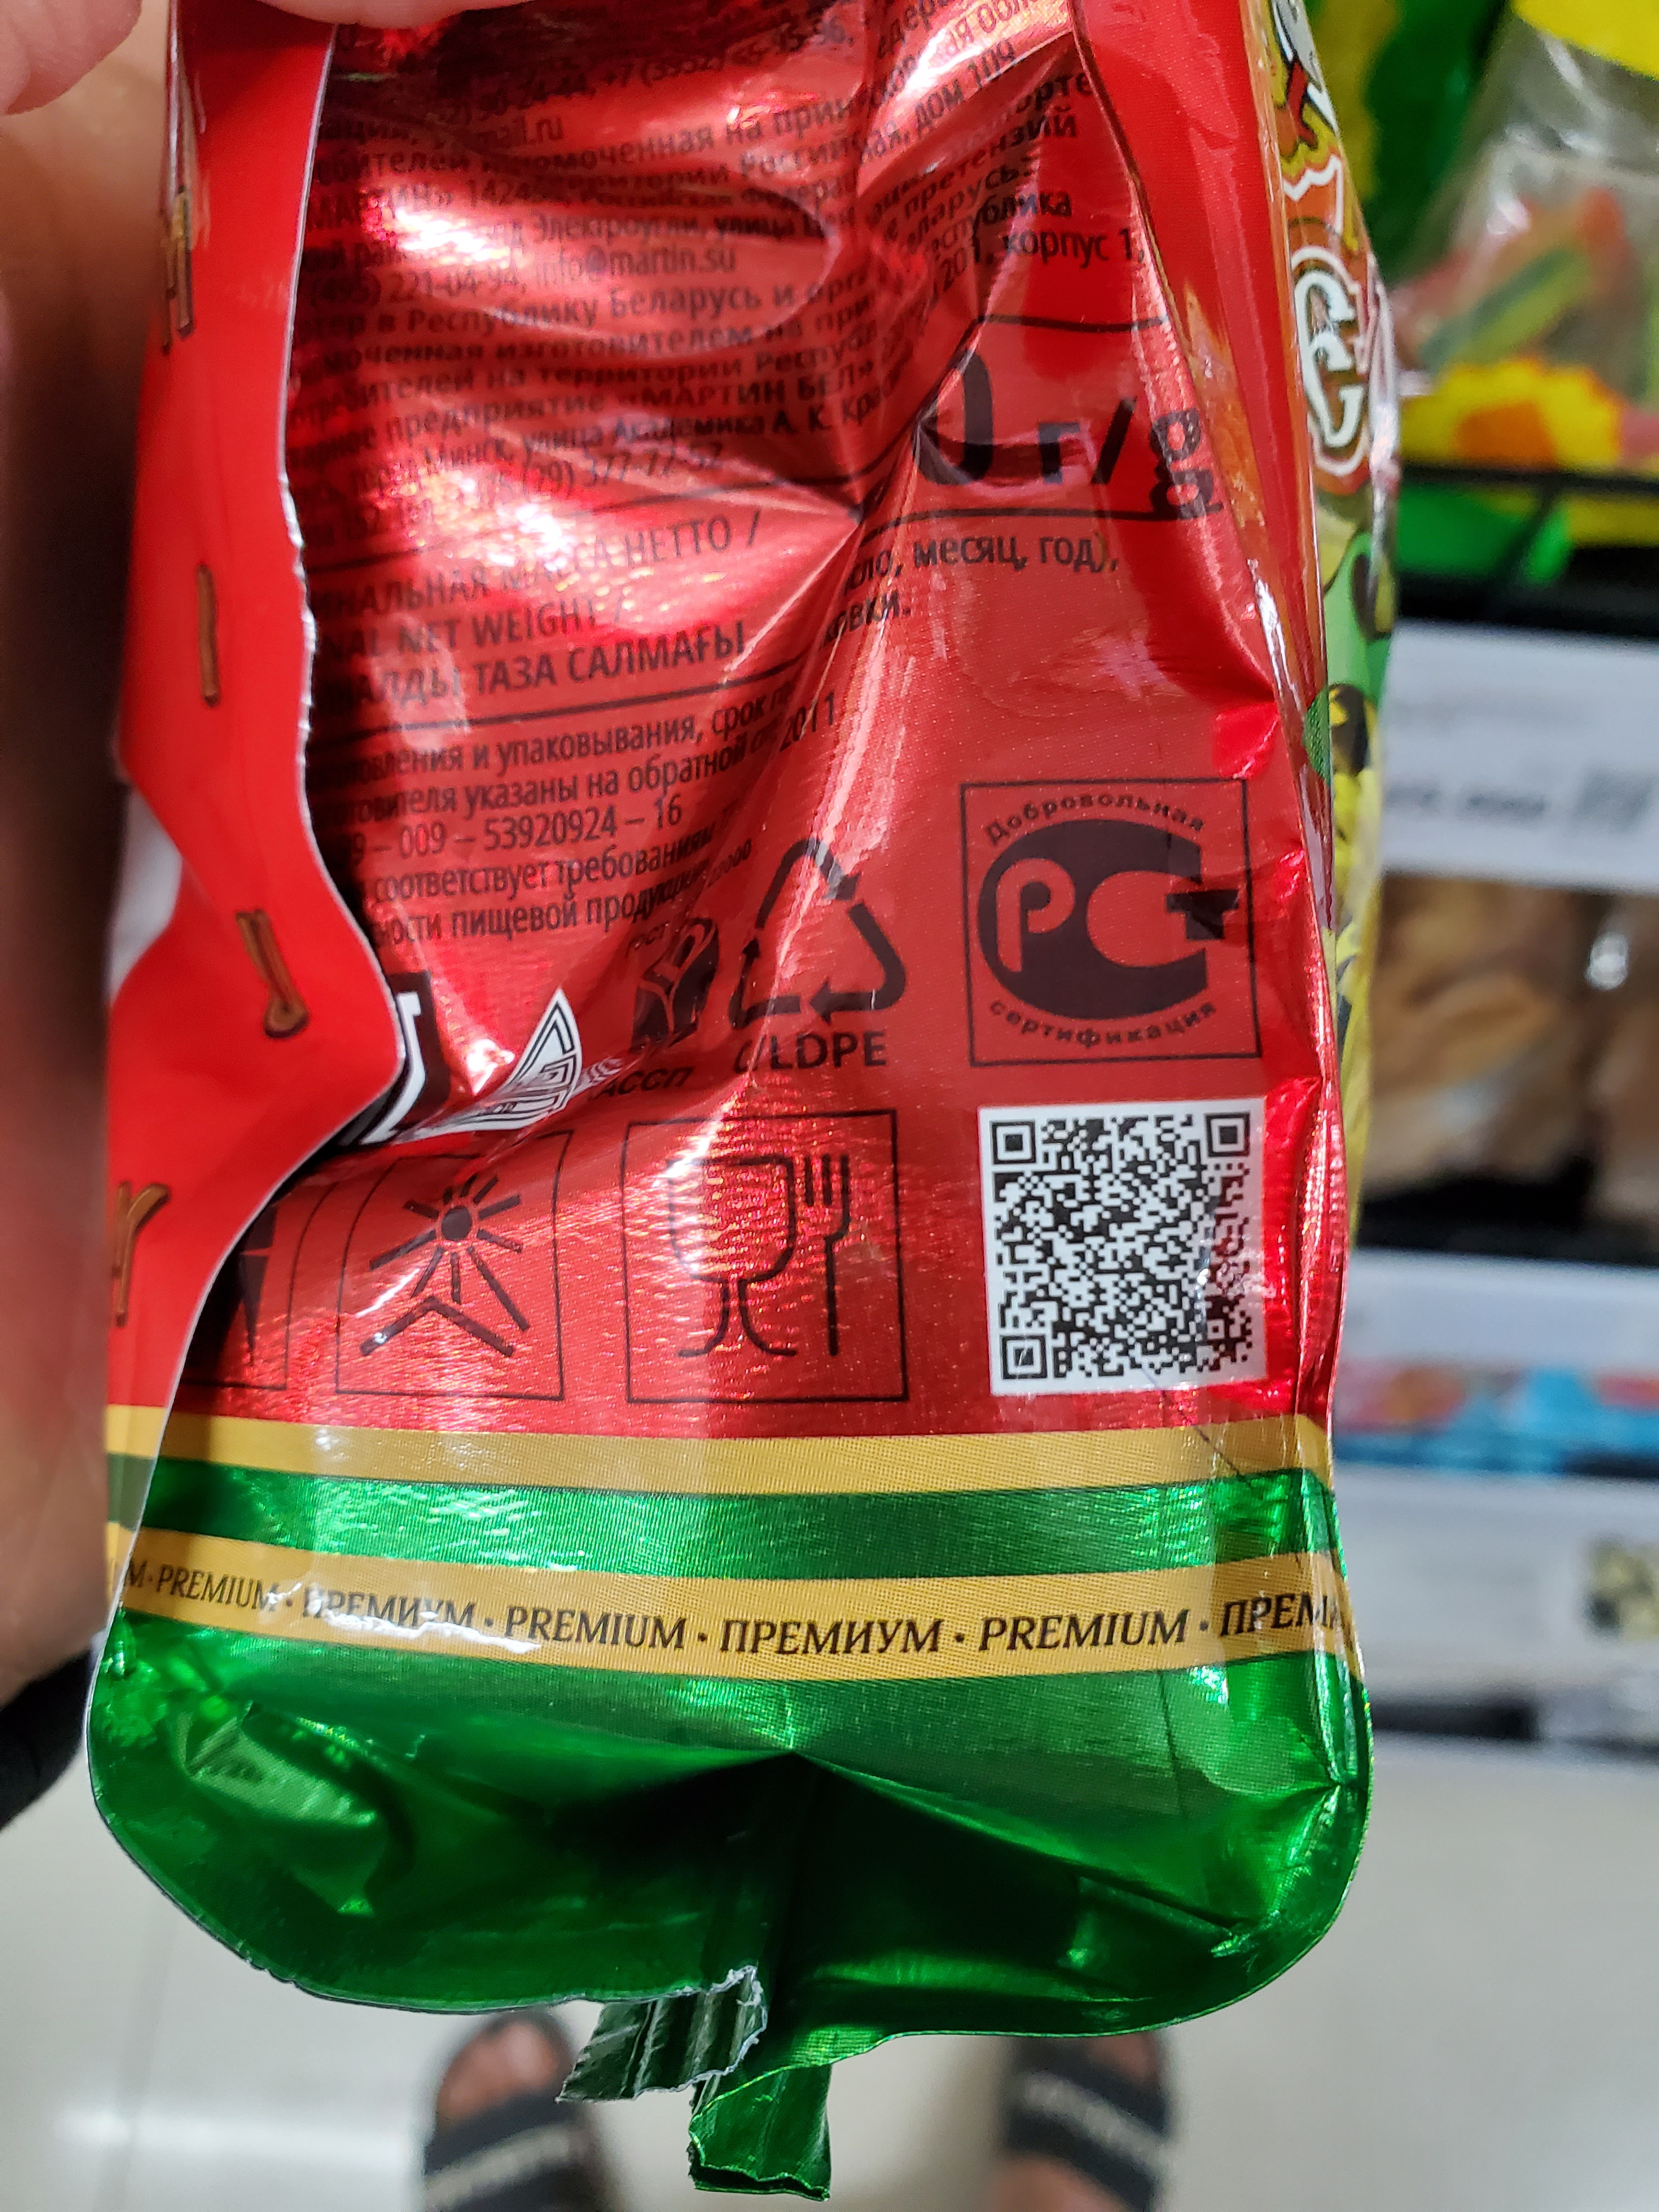qr code: (951, 1097, 1286, 1393)
